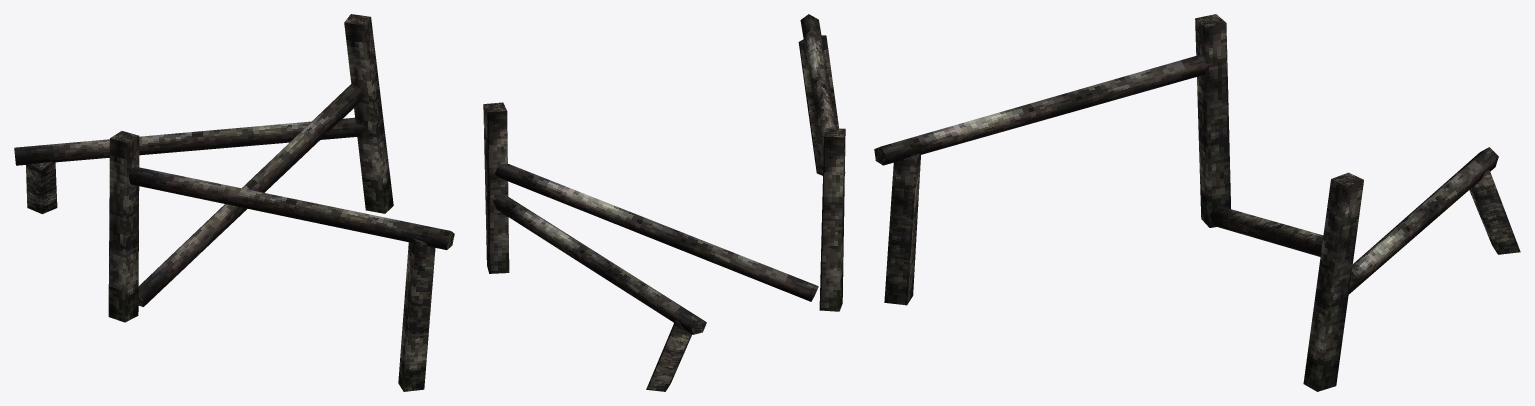
File: Environment - Prop - Wood Beams 01 - Damaged - PMBalBeam_d.glb
3 views of the same model, side by side, from view 1: azimuth 30°, elevation 25°; view 2: azimuth 150°, elevation 25°; view 3: azimuth 270°, elevation 25° (orthographic). The views are drawn at different scales.
Parts seen in each view (by area): view 1: PMBALBEAM_D; view 2: PMBALBEAM_D; view 3: PMBALBEAM_D.
Boxes of the visible parts, bbox=[...] form: PMBALBEAM_D: bbox=[14, 14, 454, 391]; PMBALBEAM_D: bbox=[483, 14, 845, 391]; PMBALBEAM_D: bbox=[874, 14, 1520, 391].
Size of the model in its own units: 25.58 by 13.46 by 39.35.
1 material, 1 textured.
